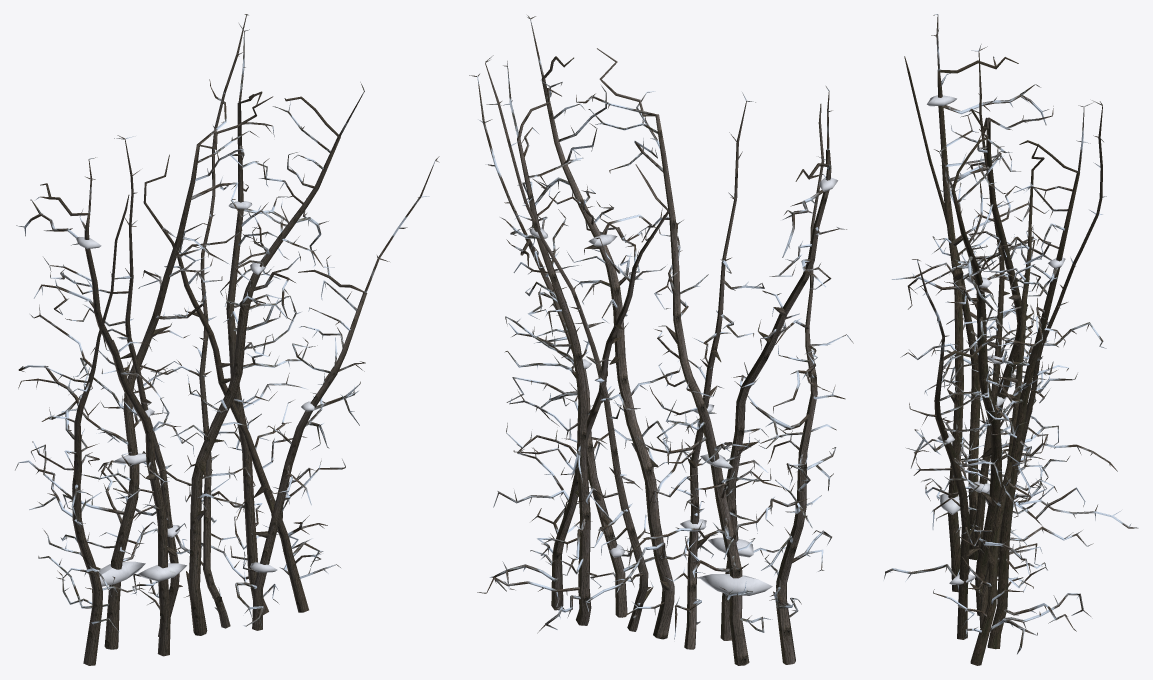
Rendered from hd_thornwall.glb.
The picture shows the model from 3 angles, left to right: view 1: azimuth 30°, elevation 25°; view 2: azimuth 150°, elevation 25°; view 3: azimuth 270°, elevation 25°; orthographic projection. The views are drawn at different scales.
Visible parts, largest first — view 1: hd_thornwall; view 2: hd_thornwall; view 3: hd_thornwall.
Boxes of the visible parts, x1=… form: hd_thornwall: x1=15, y1=14, x2=439, y2=665; hd_thornwall: x1=469, y1=15, x2=853, y2=665; hd_thornwall: x1=883, y1=14, x2=1138, y2=665.
Size of the model in its own units: 2.26 by 3.16 by 1.29.
1 material, 1 textured.
